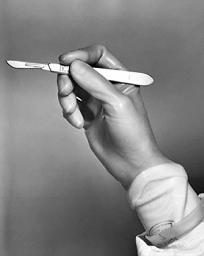scalpel: (5, 59, 156, 87)
